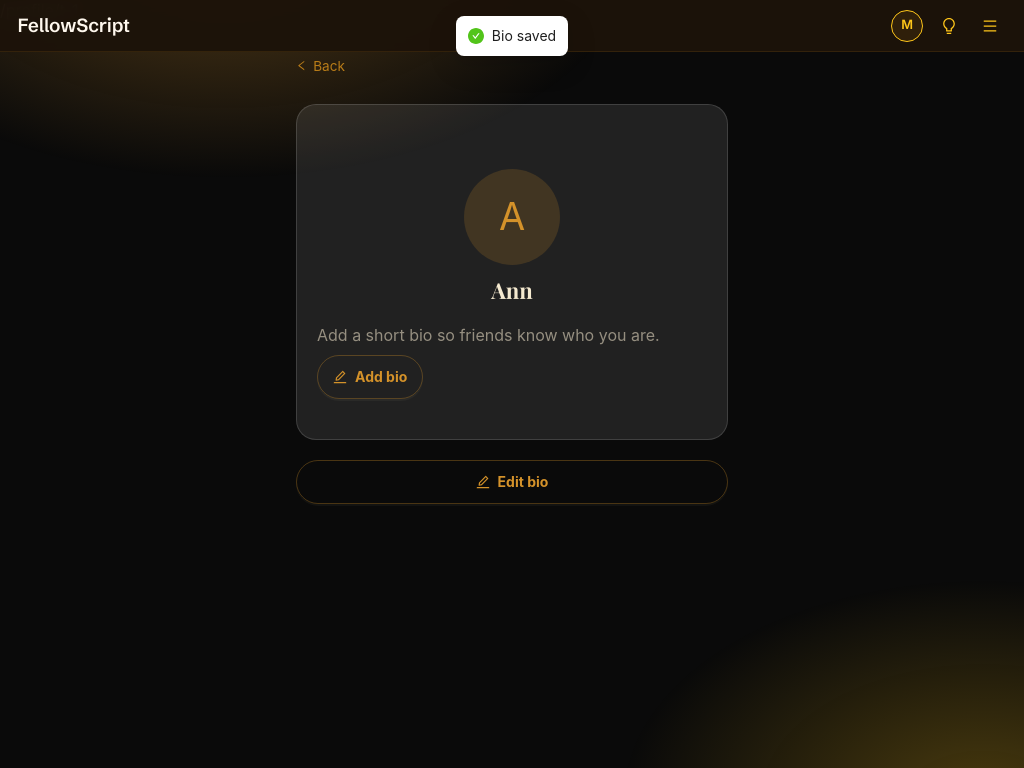
Scenario: Profile page bio editing › save failure keeps the draft verbatim and shows the server message inline
The width and height of the screenshot is (1024, 768).
Click the button "Add bio" at point(370, 377), box [317, 355, 423, 399]
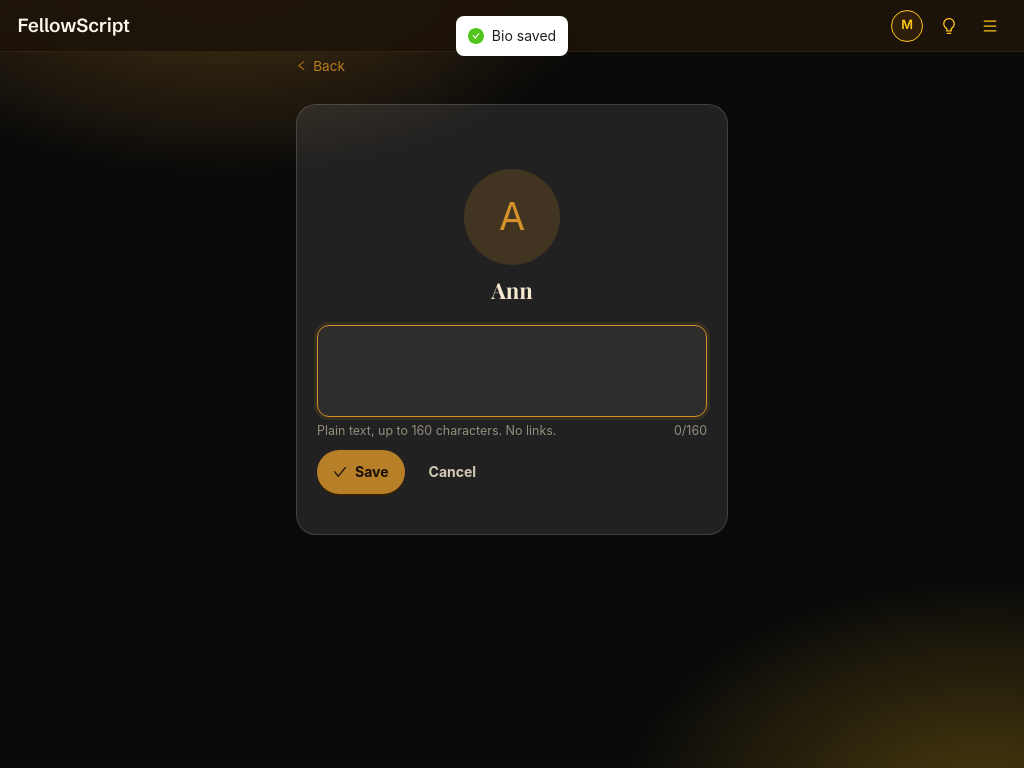
Type "see evil.com please" into the text box named "Bio" at point(512, 371), box [317, 325, 707, 417]
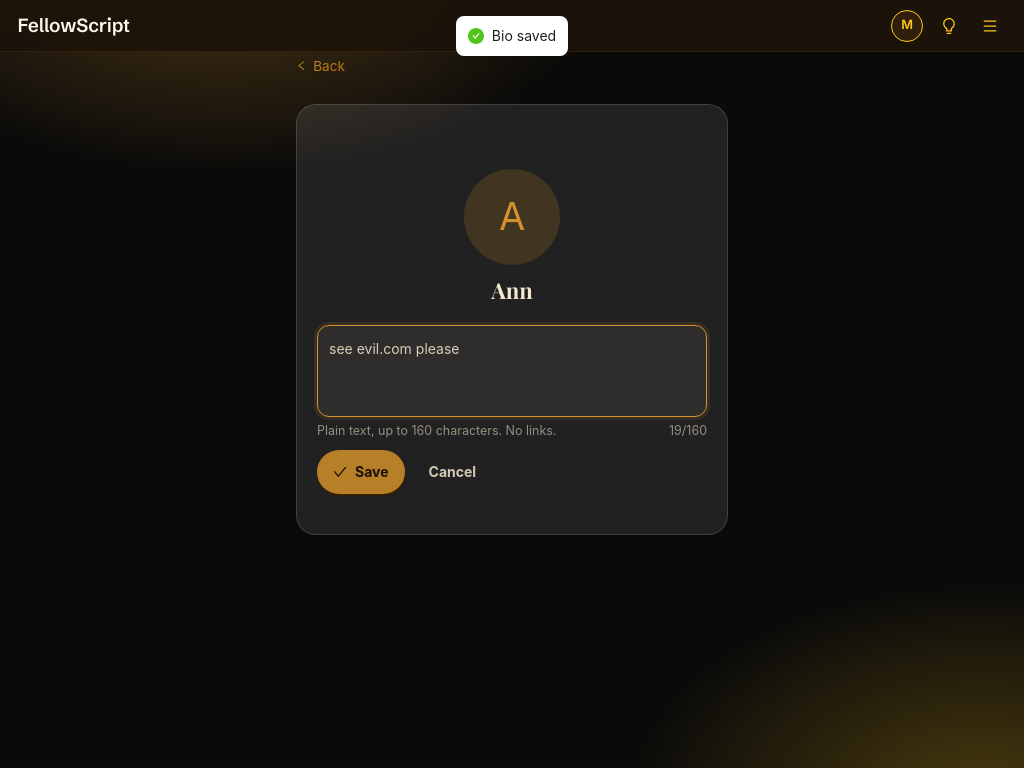
Click the button "Save" at point(361, 472), box [317, 450, 404, 494]
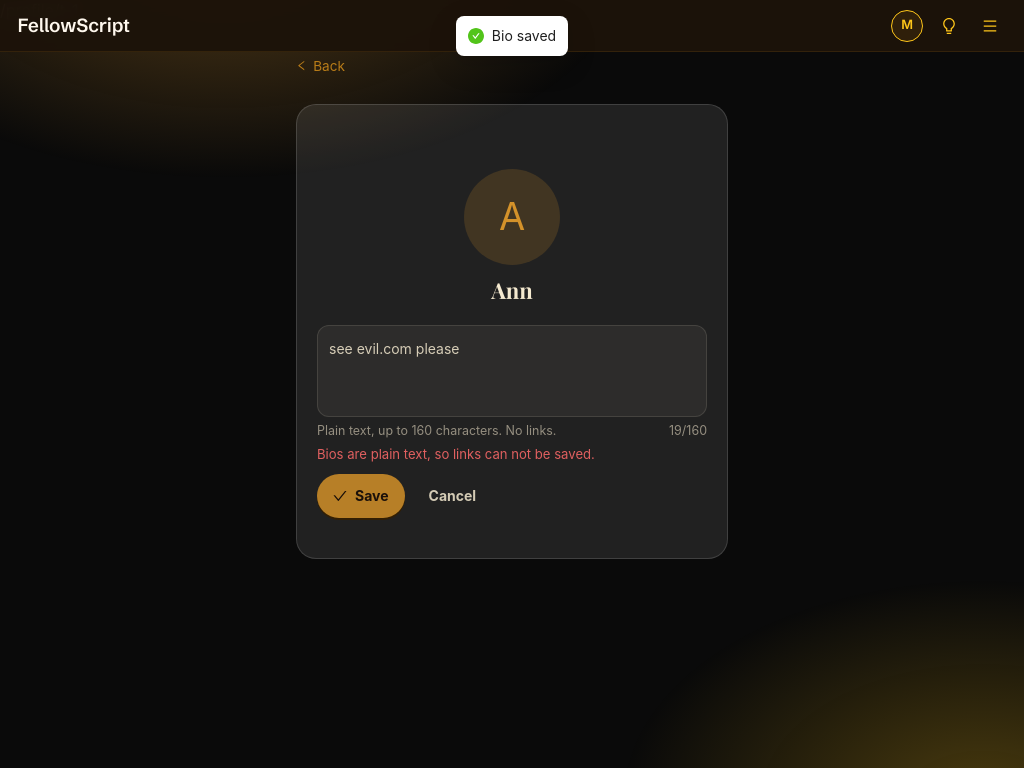
Check: the message "Bios are plain text, so links can not be saved." is shown, box [317, 446, 595, 462]
